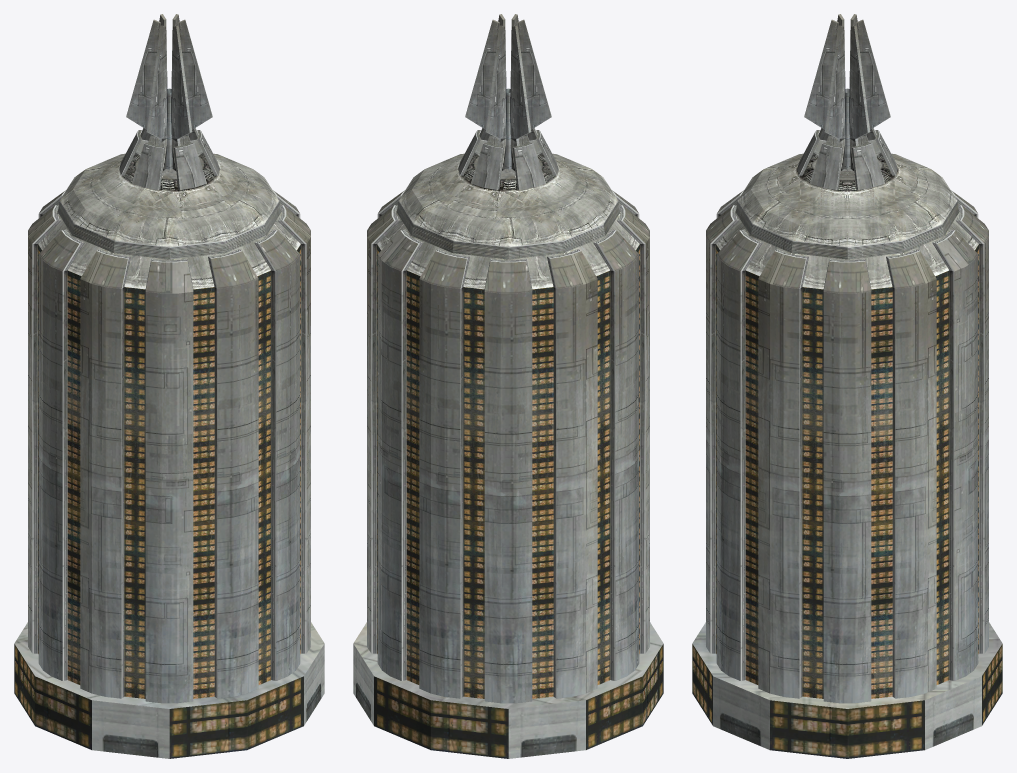
The model's file is eaw_corBuild1.glb.
3 renders of one model, left to right at view 1: azimuth 30°, elevation 25°; view 2: azimuth 150°, elevation 25°; view 3: azimuth 270°, elevation 25°, orthographic.
Visible parts, largest first — view 1: W_Urban_CorBuild_F_ALT0_0; view 2: W_Urban_CorBuild_F_ALT0_0; view 3: W_Urban_CorBuild_F_ALT0_0.
Boxes of the visible parts, <box> form: W_Urban_CorBuild_F_ALT0_0: <box>14,14,324,758</box>; W_Urban_CorBuild_F_ALT0_0: <box>353,14,663,758</box>; W_Urban_CorBuild_F_ALT0_0: <box>692,14,1002,758</box>.
Bounding box in the file's own units: 17.27 × 41.33 × 17.27.
Materials: 1 (1 with a texture image).
